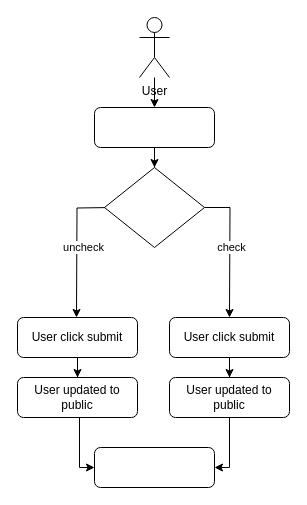
The diagram is 307 pixels wide and 505 high, and some of its shapes have lost their labels. The shapes that lost their labels are listed below. From the top down, each one's centre as x and y in pixels, then its label:
(154,127): Open Settings
(154,207): "private profile" checkbox
(154,467): Settings page refreshed
